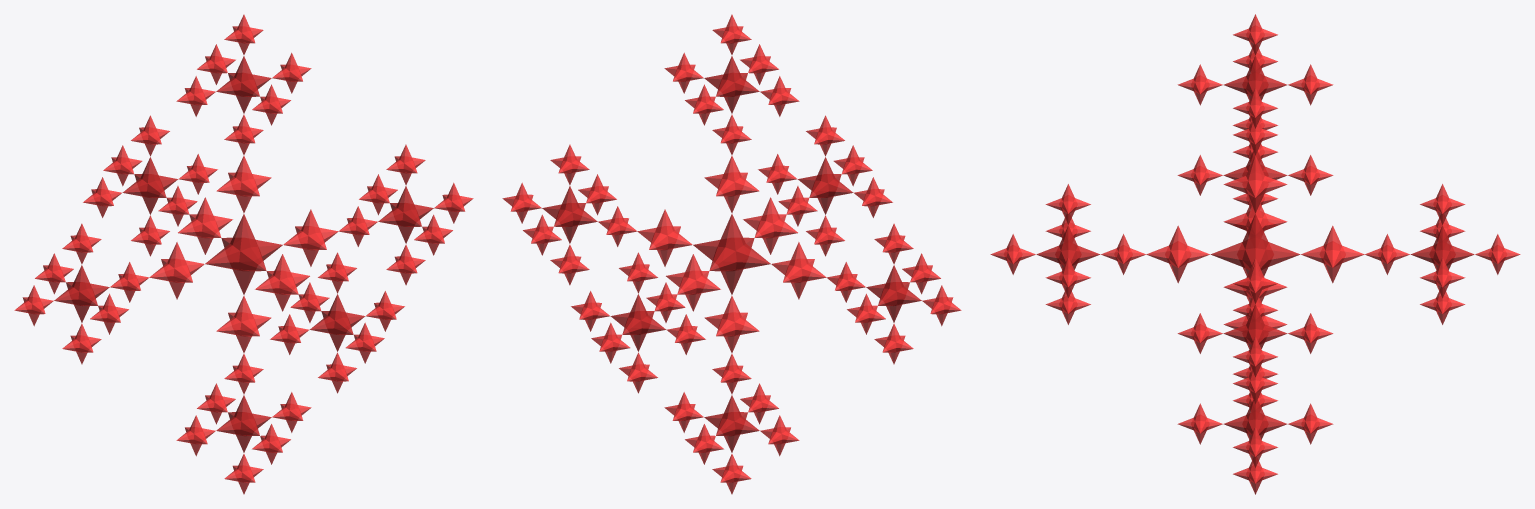
Rendered from fractalsmallhexacronicicositetrahedron2.glb.
3 views of the same model, side by side, from view 1: azimuth 30°, elevation 25°; view 2: azimuth 150°, elevation 25°; view 3: azimuth 270°, elevation 25° (orthographic).
Size of the model in its own units: 12.29 by 12.29 by 12.29.
